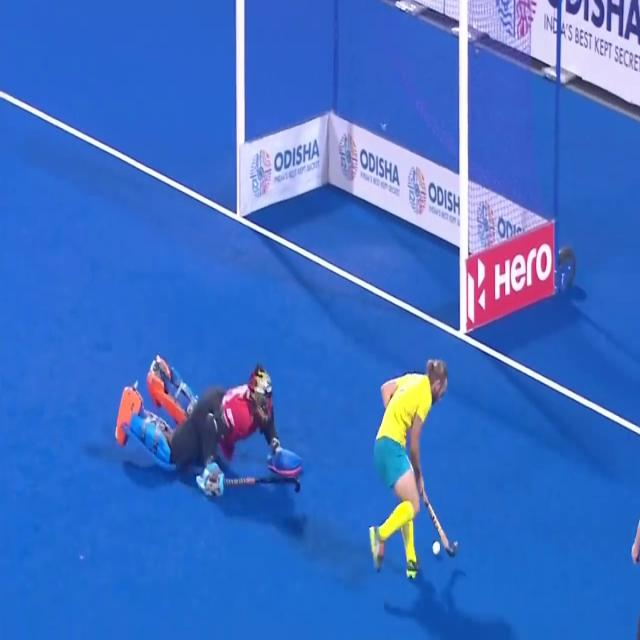ball: (423, 532, 448, 570)
